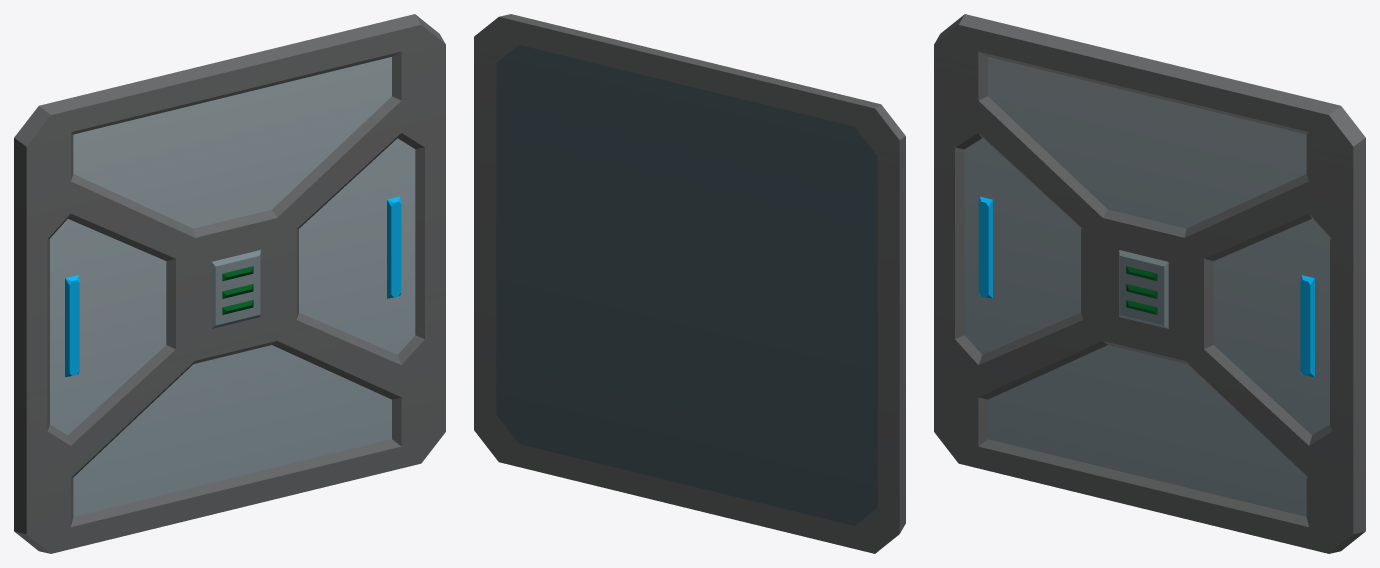
Rendered from Container_type_B_door_007.fbx.
3 renders of one model, left to right at view 1: azimuth 30°, elevation 25°; view 2: azimuth 150°, elevation 25°; view 3: azimuth 330°, elevation 25°, orthographic.
Parts seen in each view (by area): view 1: Container_type_B_door_007; view 2: Container_type_B_door_007; view 3: Container_type_B_door_007.
Part boxes in pixels (x1=…): Container_type_B_door_007: x1=14, y1=14, x2=445, y2=553; Container_type_B_door_007: x1=474, y1=14, x2=905, y2=553; Container_type_B_door_007: x1=934, y1=14, x2=1365, y2=553.
Size of the model in its own units: 212 by 10.46 by 212.
